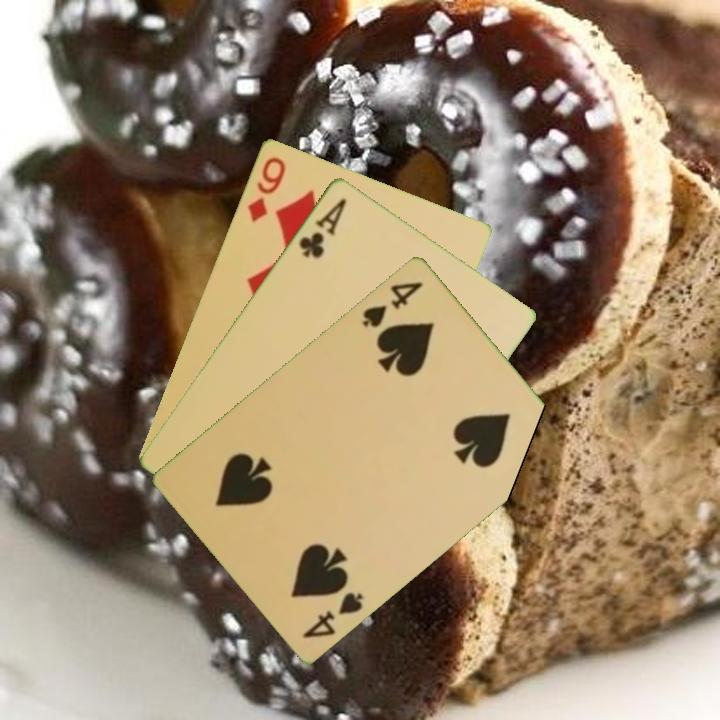4s: (358, 277, 426, 330), (299, 588, 366, 641)
9d: (243, 152, 288, 225)
Ac: (295, 194, 350, 261)
